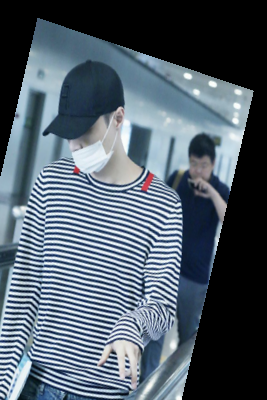mask_weared_incorrect: (47, 46, 139, 187)
